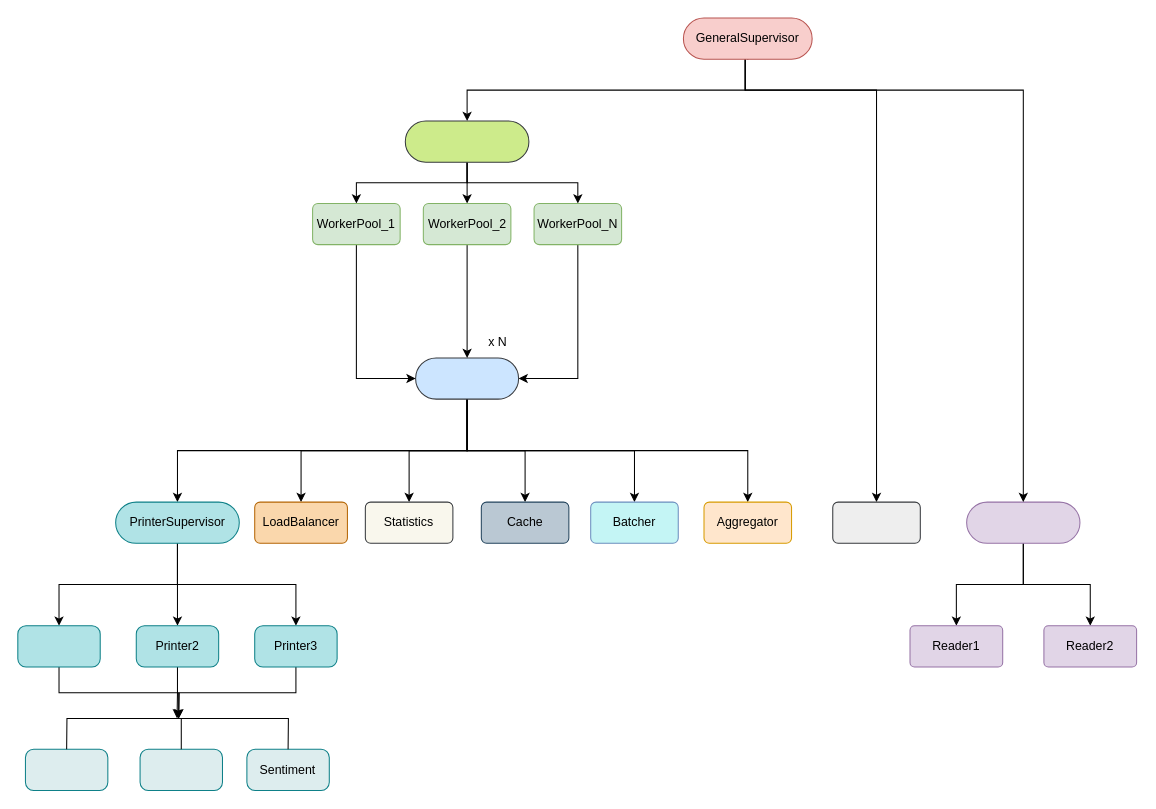
Image size: 1156x809. Some labels were removed from this diagram. The shapes that lost their labels are listed below. From the top down, each one's centre as x and y in pixels, then its label:
At point (466, 141): "LeGrandWorkerPool".
At point (467, 378): "MainSupervisor".
At point (876, 522): "UserCache".
At point (1023, 522): "ReaderSupervisor".
At point (58, 646): "Printer1".
At point (66, 769): "Redactor".
At point (180, 769): "Engagement".
